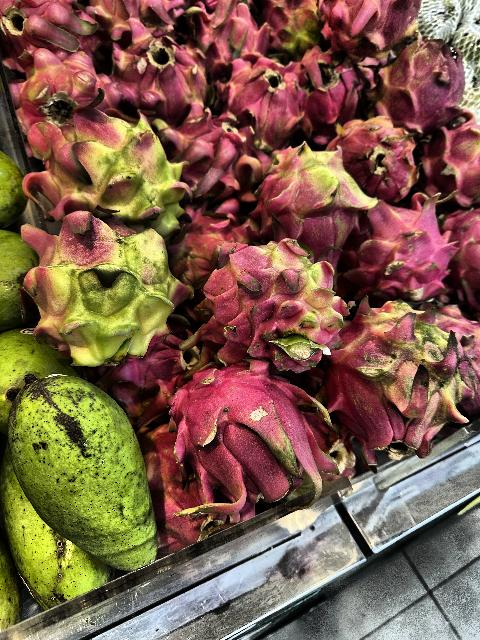buah-naga-belum-matang: (7, 207, 195, 367), (330, 288, 480, 477), (15, 108, 199, 242), (192, 236, 344, 368), (250, 138, 380, 268), (0, 47, 120, 143), (372, 36, 466, 132), (328, 116, 424, 200), (420, 117, 480, 199), (255, 0, 327, 52)
buah-naga-matang: (164, 365, 344, 531), (103, 28, 221, 122), (161, 102, 268, 205), (356, 198, 456, 306), (216, 55, 311, 152), (0, 2, 98, 66), (312, 0, 422, 56)
